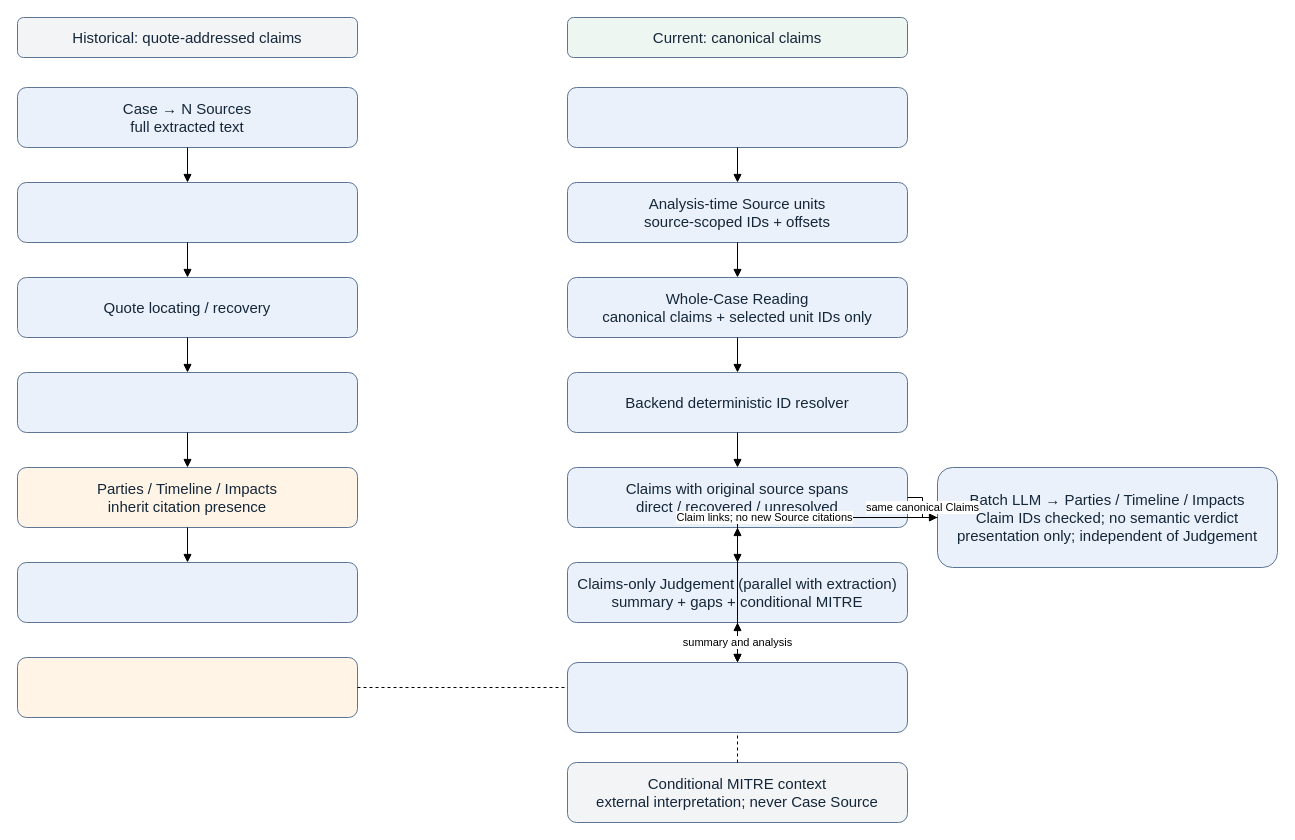
Image size: 1295x840. Some labels were removed from this diagram. The box of each missing label's shape, as (x1, y1, x2, y2) in pixels:
Case → N Sources exact text + provenance: (566, 86, 908, 148)
CaseAnalysisTrace → Details / Report canonical Claims + derived views: (566, 662, 908, 732)
Claims with bound Source citations: (16, 372, 358, 432)
Judgement → CaseAnalysisTrace: (16, 562, 358, 622)
Legacy quotes → recovery near / meaning passages remain advisory: (16, 656, 358, 718)
Whole-Case Reading claims + model-written quotes: (16, 182, 358, 242)
